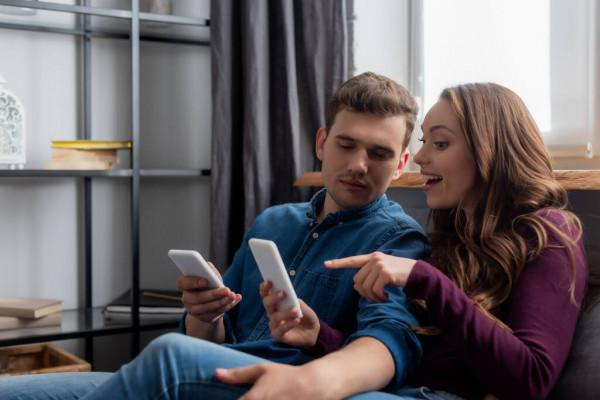mobile: (247, 238, 303, 319), (168, 249, 230, 297)
